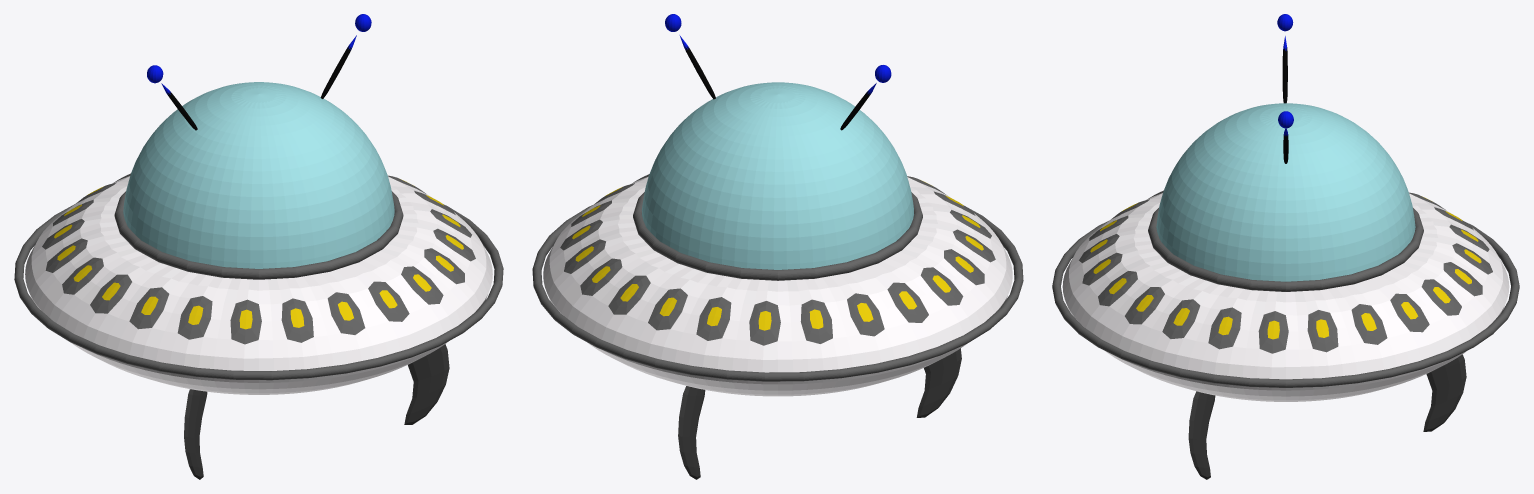
File: GameAssetUFOWhite.fbx
The picture shows the model from 3 angles, left to right: view 1: azimuth 30°, elevation 25°; view 2: azimuth 150°, elevation 25°; view 3: azimuth 270°, elevation 25°; orthographic projection. The views are drawn at different scales.
Visible parts, largest first — view 1: UFOBody; view 2: UFOBody; view 3: UFOBody.
Part boxes in pixels (<box>): UFOBody: <box>14,14,503,479</box>; UFOBody: <box>532,14,1023,479</box>; UFOBody: <box>1052,14,1519,479</box>.
Size of the model in its own units: 766 by 662 by 766.
